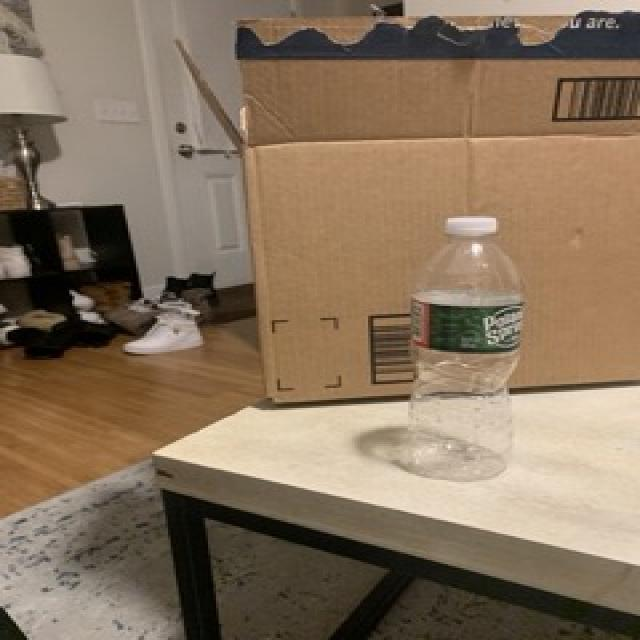water_bottle: (405, 213, 522, 485)
